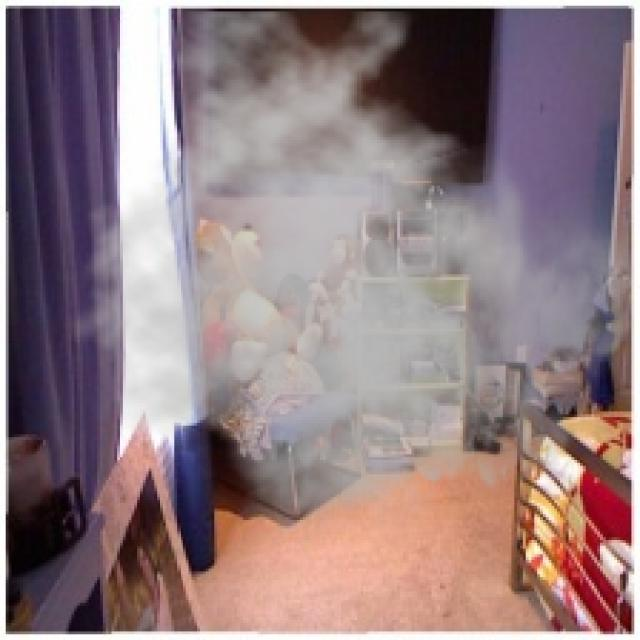smoke: (66, 11, 634, 563)
